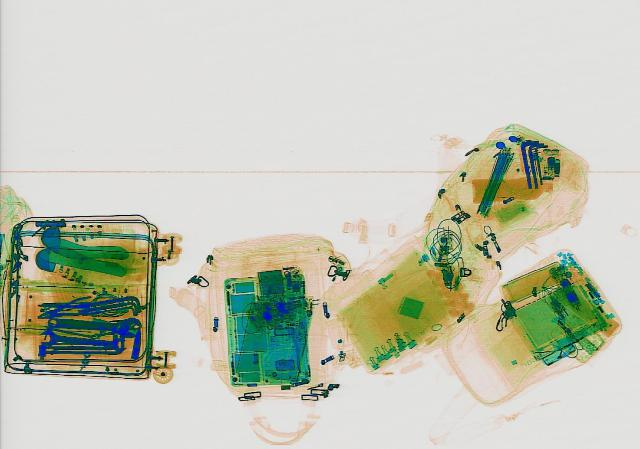Pliers: (30, 292, 100, 321)
Wrench: (43, 311, 141, 338)
